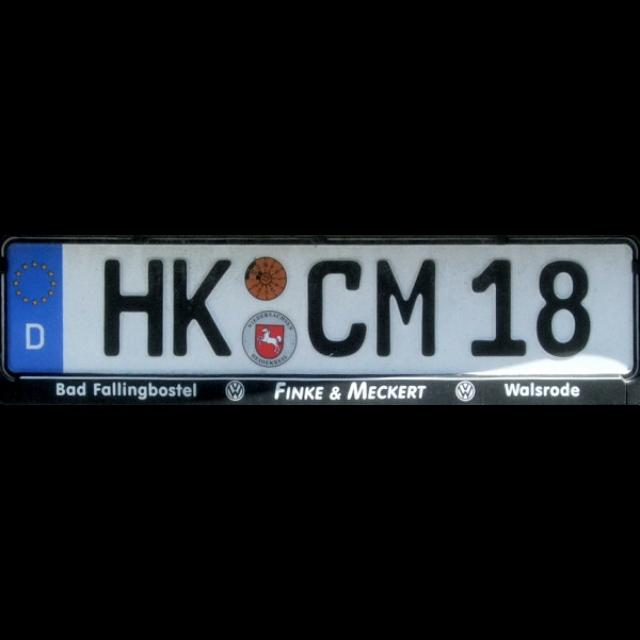d_license_plate: (5, 242, 631, 376)
